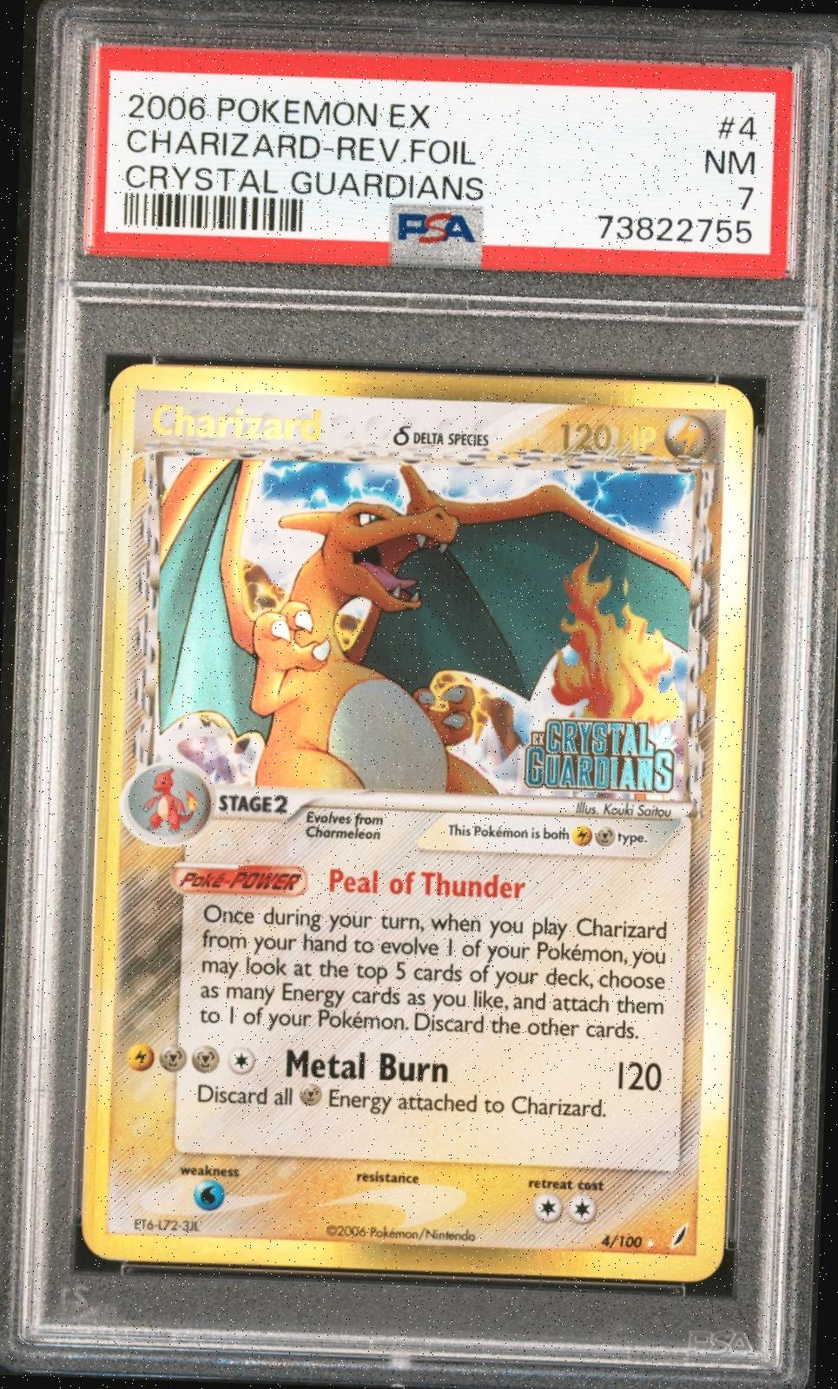card-2UtV: (80, 363, 754, 1283)
